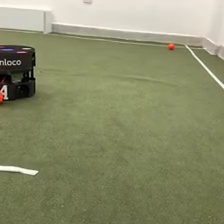ball: (167, 40, 176, 50)
goal: (1, 5, 55, 35)
robot: (1, 43, 37, 102)
